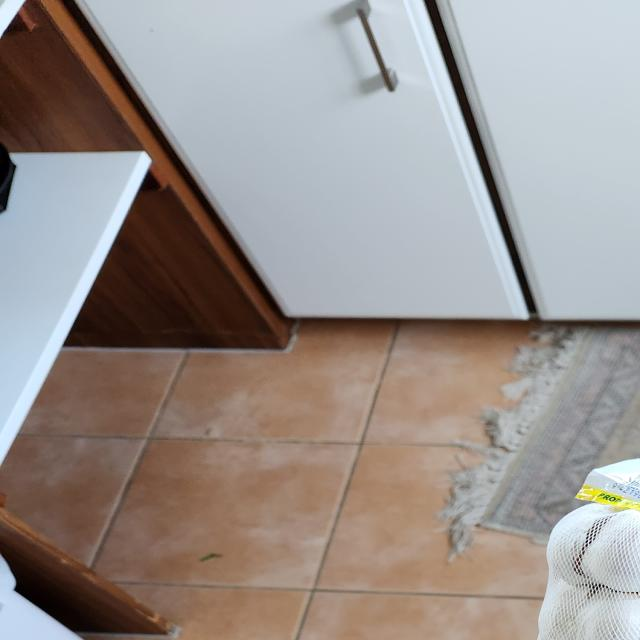garlic: (482, 474, 640, 640)
